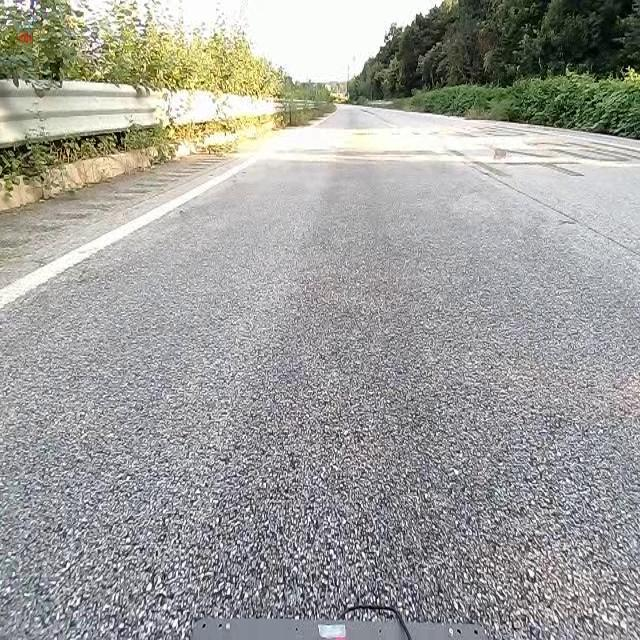Lane: (0, 144, 268, 304), (0, 153, 262, 311)
